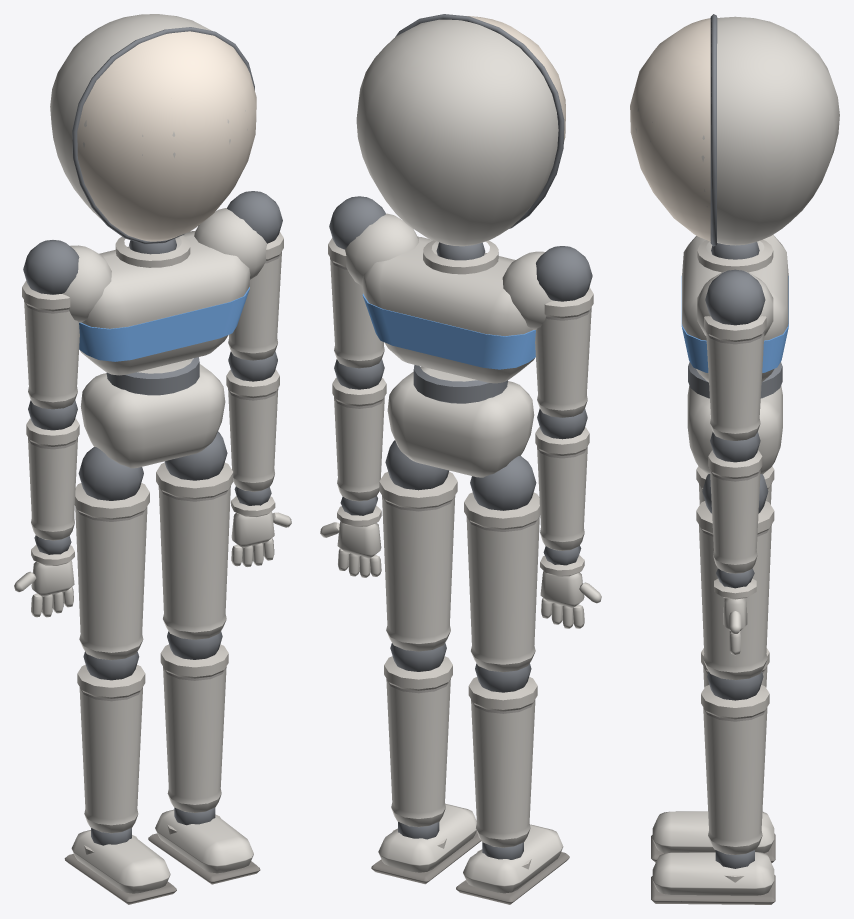
Rendered from mannequin.glb.
The picture shows the model from 3 angles, left to right: view 1: azimuth 30°, elevation 25°; view 2: azimuth 150°, elevation 25°; view 3: azimuth 270°, elevation 25°; orthographic projection.
Visible parts, largest first — view 1: Torso, FacePlate, UpperLeg_R, UpperLeg_L, LowerLeg_L, LowerLeg_R, UpperArm_R, Head, LowerArm_R, LowerArm_L, UpperArm_L, Foot_L (+3 smaller); view 2: Head, Torso, UpperLeg_R, UpperLeg_L, LowerLeg_R, LowerLeg_L, UpperArm_R, LowerArm_R, LowerArm_L, UpperArm_L, Foot_R, Foot_L (+3 smaller); view 3: Head, FacePlate, Torso, LowerLeg_L, UpperArm_L, UpperLeg_L, LowerArm_L, Foot_L, Foot_R, Hand_L, UpperLeg_R.
Boxes of the visible parts, x1=… form: Torso: x1=62, y1=208, x2=267, y2=468; FacePlate: x1=72, y1=27, x2=256, y2=244; UpperLeg_R: x1=74, y1=447, x2=149, y2=660; UpperLeg_L: x1=156, y1=431, x2=233, y2=639; LowerLeg_L: x1=160, y1=631, x2=228, y2=812; LowerLeg_R: x1=77, y1=651, x2=145, y2=833; UpperArm_R: x1=22, y1=240, x2=79, y2=409; Head: x1=50, y1=14, x2=247, y2=254; LowerArm_R: x1=26, y1=400, x2=79, y2=540; LowerArm_L: x1=226, y1=351, x2=279, y2=491; UpperArm_L: x1=227, y1=191, x2=283, y2=360; Foot_L: x1=148, y1=807, x2=260, y2=884; Head: x1=356, y1=19, x2=561, y2=260; Torso: x1=345, y1=213, x2=552, y2=477; UpperLeg_R: x1=464, y1=456, x2=540, y2=672; UpperLeg_L: x1=379, y1=440, x2=457, y2=651; LowerLeg_R: x1=468, y1=663, x2=537, y2=847; LowerLeg_L: x1=384, y1=643, x2=452, y2=827; UpperArm_R: x1=535, y1=246, x2=593, y2=417; LowerArm_R: x1=535, y1=408, x2=589, y2=550; LowerArm_L: x1=332, y1=359, x2=386, y2=501; UpperArm_L: x1=328, y1=196, x2=385, y2=368; Foot_R: x1=456, y1=824, x2=569, y2=904; Foot_L: x1=371, y1=804, x2=481, y2=884; Head: x1=635, y1=16, x2=839, y2=259; FacePlate: x1=630, y1=14, x2=717, y2=246; Torso: x1=681, y1=234, x2=788, y2=474; LowerLeg_L: x1=701, y1=671, x2=769, y2=854; UpperArm_L: x1=704, y1=269, x2=766, y2=440; UpperLeg_L: x1=696, y1=474, x2=774, y2=680; LowerArm_L: x1=708, y1=432, x2=762, y2=573; Foot_L: x1=651, y1=850, x2=775, y2=904; Foot_R: x1=651, y1=811, x2=775, y2=863; Hand_L: x1=714, y1=568, x2=756, y2=655; UpperLeg_R: x1=696, y1=466, x2=774, y2=504.
Size of the model in its own units: 0.6613 by 1.92 by 0.4313.
